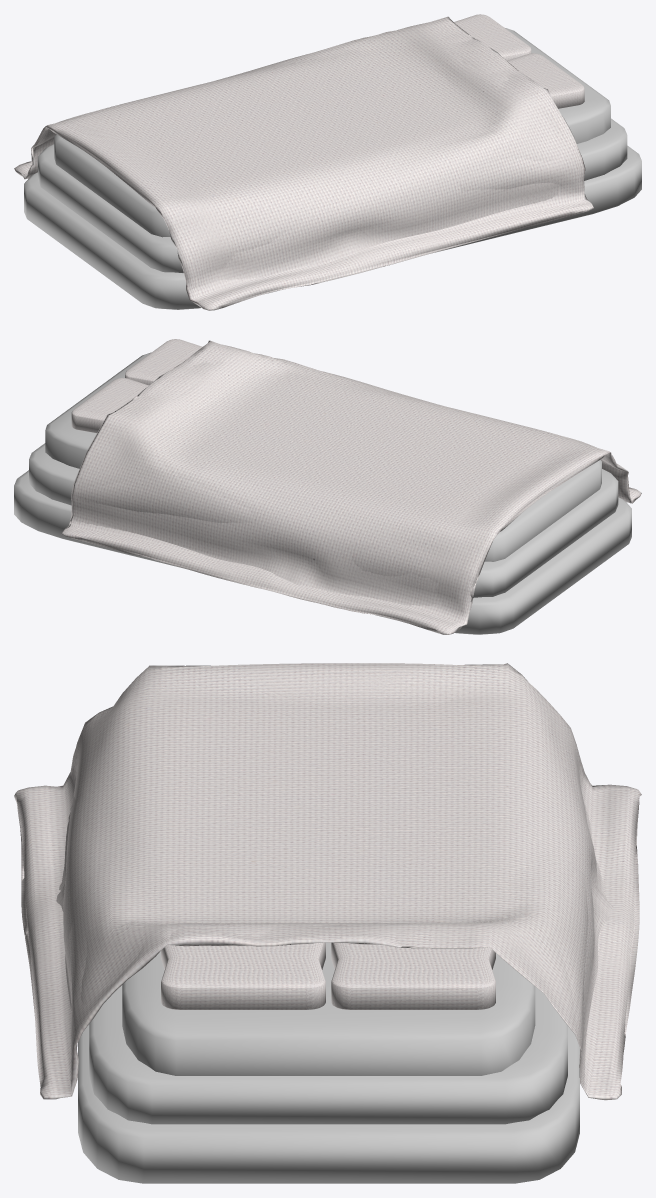
The model's file is cama.fbx.
3 renders of one model, top to bottom at view 1: azimuth 30°, elevation 25°; view 2: azimuth 150°, elevation 25°; view 3: azimuth 270°, elevation 25°, orthographic. The views are drawn at different scales.
Visible parts, largest first — view 1: coberta.001, base 2, base 1, colchao.001, travesseiros; view 2: coberta.001, base 2, base 1, colchao.001, travesseiros; view 3: coberta.001, base 2, colchao.001, base 1, travesseiros.
Boxes of the visible parts, <box> form: coberta.001: <box>14,16,593,310</box>; base 2: <box>24,145,641,309</box>; base 1: <box>38,118,627,272</box>; colchao.001: <box>54,28,610,237</box>; travesseiros: <box>454,14,584,108</box>; coberta.001: <box>61,340,641,634</box>; base 2: <box>14,470,631,634</box>; base 1: <box>29,443,618,597</box>; colchao.001: <box>45,352,601,561</box>; travesseiros: <box>71,339,202,433</box>; coberta.001: <box>14,663,641,1100</box>; base 2: <box>78,1024,579,1183</box>; colchao.001: <box>122,942,535,1075</box>; base 1: <box>89,985,567,1124</box>; travesseiros: <box>161,942,495,1009</box>.
Bounding box in the file's own units: 118 × 26.21 × 80.8.
